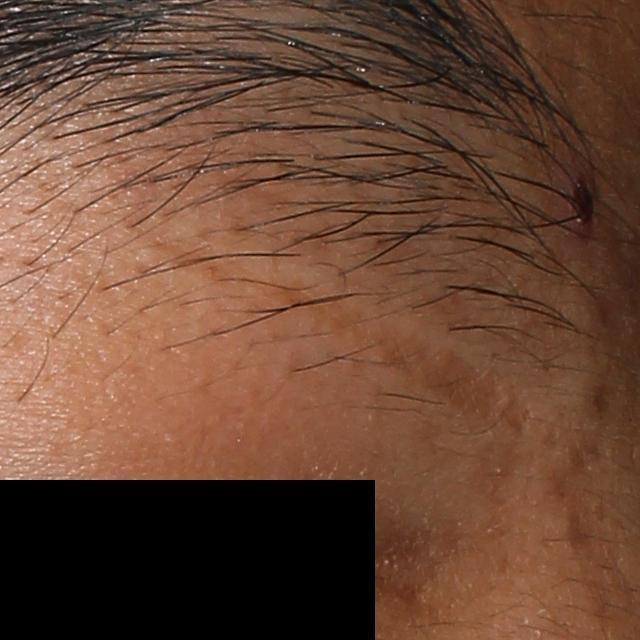nevus: (562, 171, 601, 230)
